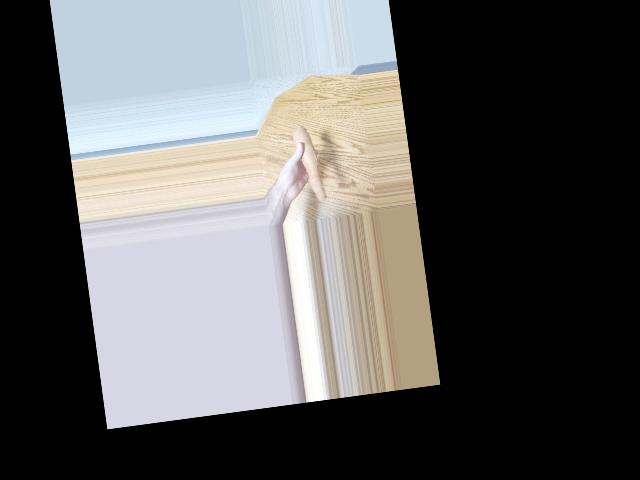sweet_potato: (298, 125, 323, 202)
